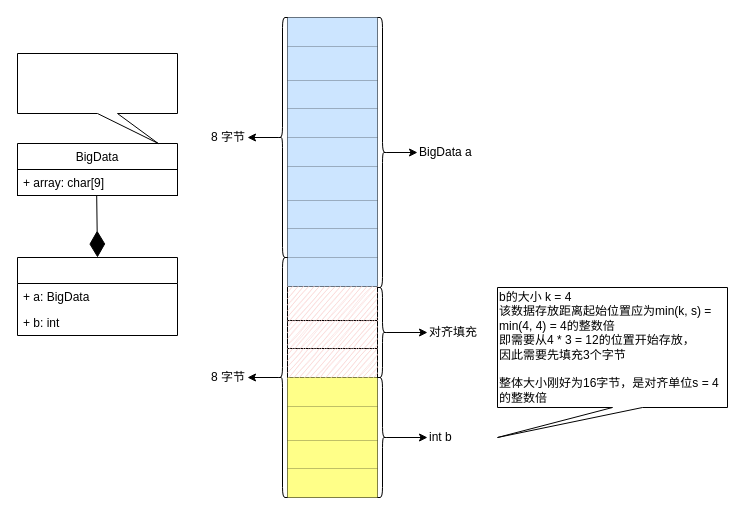
Some shapes in this 745 by 515 pixel diagram are drawn without their labels. Each missing label, with the box of its shape:
Data6: (16, 256, 178, 336)
编译器对齐系数 n = 4 最长数据类型长度 m = 9 对齐单位s = min(m, n) = 4: (16, 52, 178, 144)
